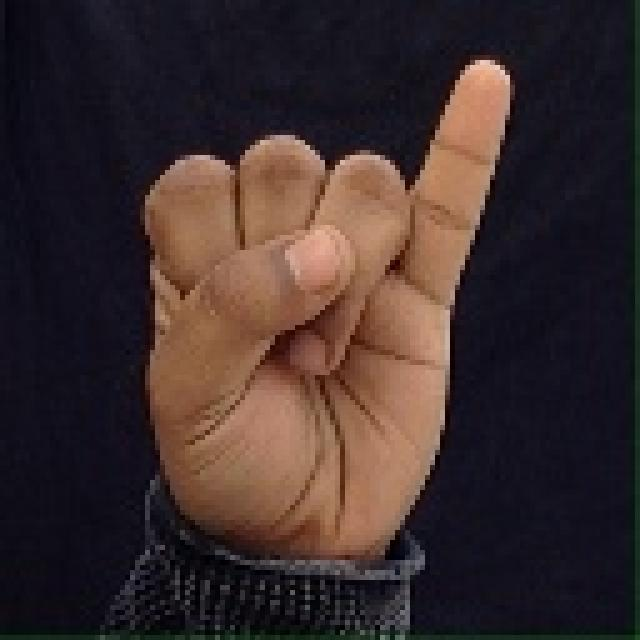Numeric-6: (140, 48, 520, 565)
